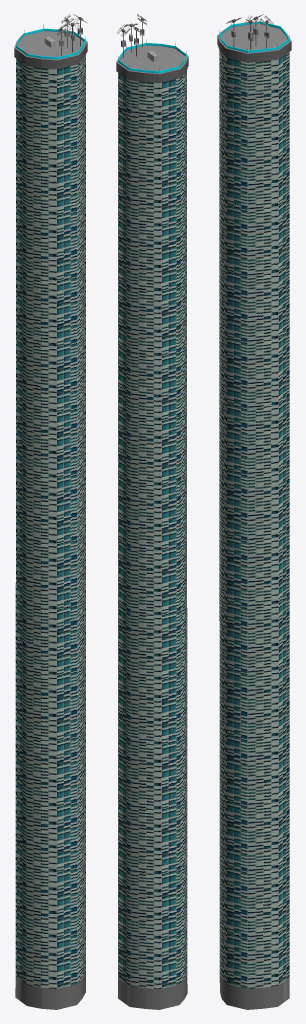
File: Building 2.fbx
3 views of the same model, side by side, from view 1: azimuth 30°, elevation 25°; view 2: azimuth 210°, elevation 25°; view 3: azimuth 330°, elevation 25° (orthographic). The views are drawn at different scales.
Parts seen in each view (by area): view 1: pCylinder22; view 2: pCylinder22; view 3: pCylinder22.
Boxes of the visible parts, x1=… form: pCylinder22: x1=14, y1=14, x2=87, y2=1009; pCylinder22: x1=116, y1=14, x2=188, y2=1009; pCylinder22: x1=217, y1=14, x2=291, y2=1009.
Size of the model in its own units: 25.71 by 393 by 26.74.
Materials: 7 (2 with a texture image).
